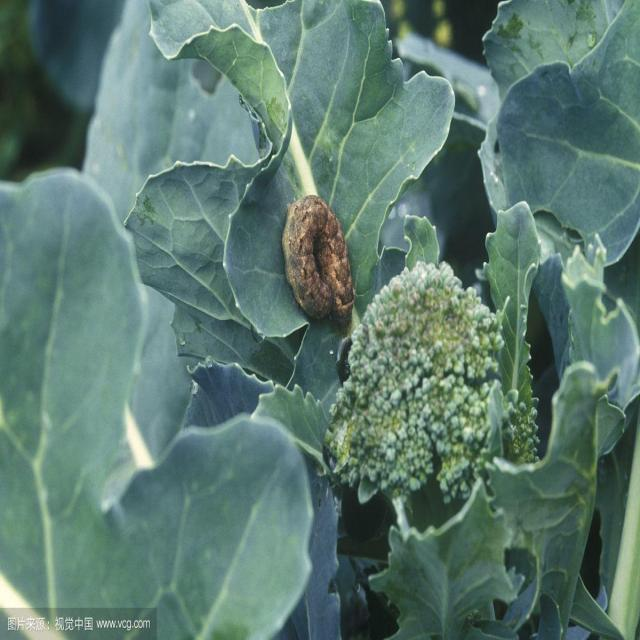armyworm: (285, 188, 364, 320)
